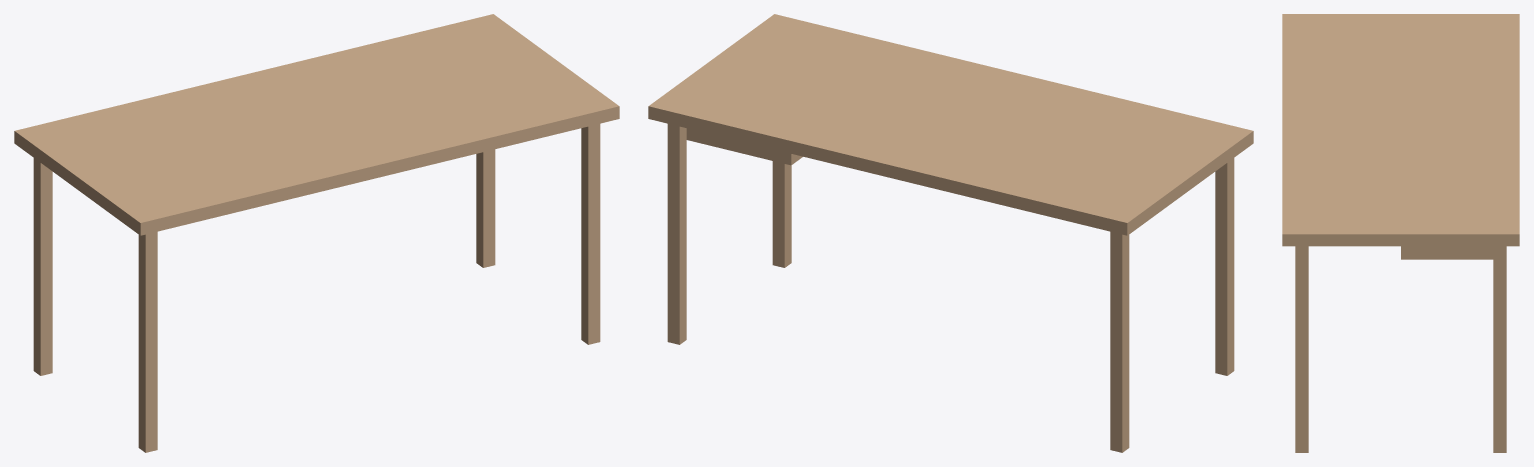
Rendered from desk_04.glb.
3 views of the same model, side by side, from view 1: azimuth 30°, elevation 25°; view 2: azimuth 150°, elevation 25°; view 3: azimuth 270°, elevation 25° (orthographic). The views are drawn at different scales.
Size of the model in its own units: 1.58 by 0.75 by 0.72.
